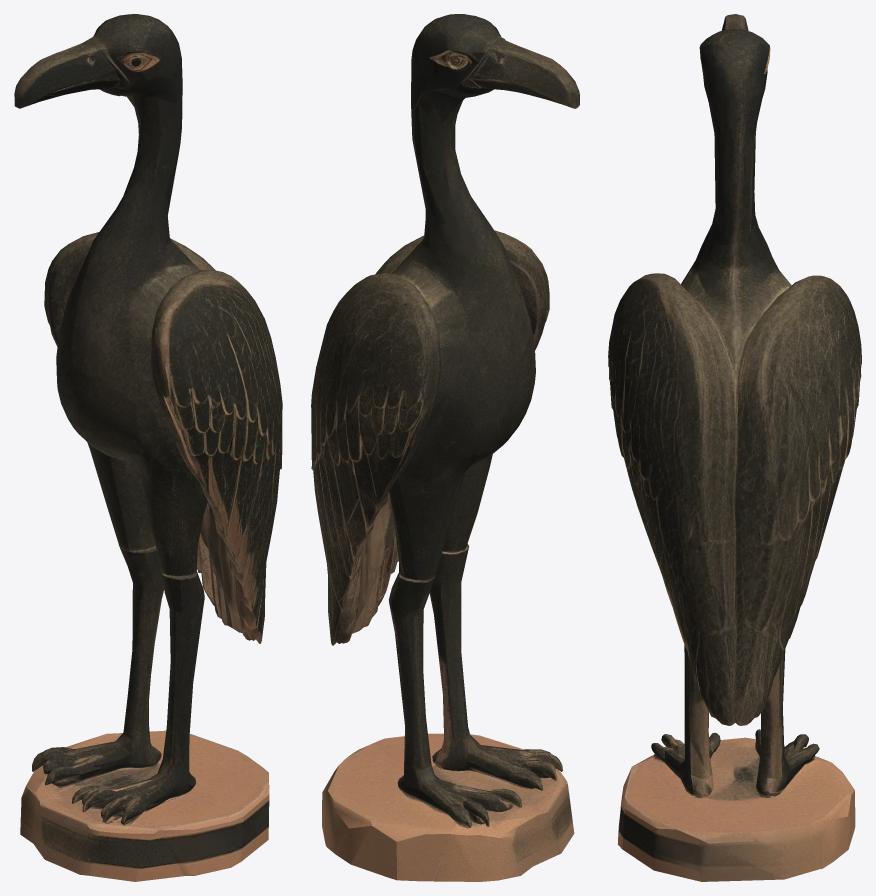
The model's file is vulture.glb.
The picture shows the model from 3 angles, left to right: view 1: azimuth 30°, elevation 25°; view 2: azimuth 150°, elevation 25°; view 3: azimuth 270°, elevation 25°; orthographic projection. The views are drawn at different scales.
Visible parts, largest first — view 1: mesh_node; view 2: mesh_node; view 3: mesh_node.
Part boxes in pixels (bbox=[...]): mesh_node: bbox=[14, 14, 282, 881]; mesh_node: bbox=[311, 14, 579, 881]; mesh_node: bbox=[608, 14, 861, 881].
Bounding box in the file's own units: 0.5984 × 1.9 × 0.5533.
1 material, 1 textured.
